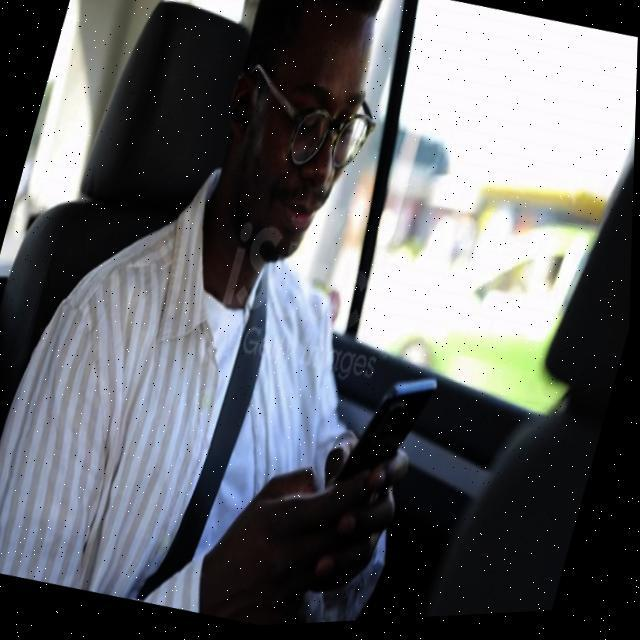PhoneCall: (338, 364, 442, 510)
